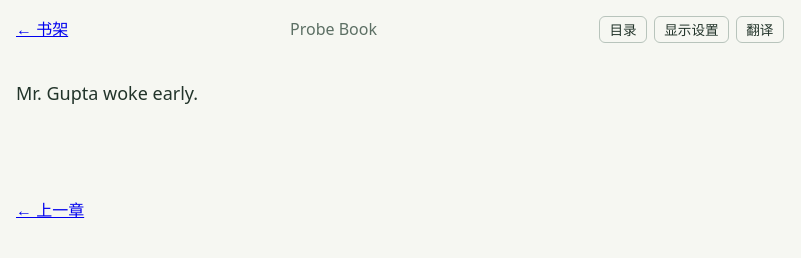
ReadingPage's translate button through the component boundary › offers 翻译 on an untranslated chapter, then polls to 已翻译 with fresh lines
The image size is (801, 258).
Click the button "翻译": x=760, y=29 [736,16,784,43]
Wait 7500 ms
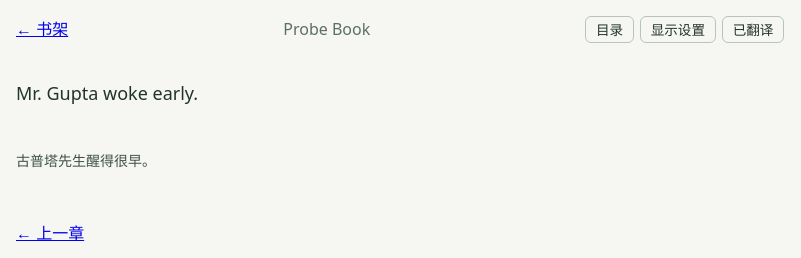
Result: the button named "翻译中 0%" is disabled at [722,16,784,43]
Result: the button "已翻译" is disabled at [722,16,784,43]
Result: the text "古普塔先生醒得很早。" is shown at [16,151,156,170]
